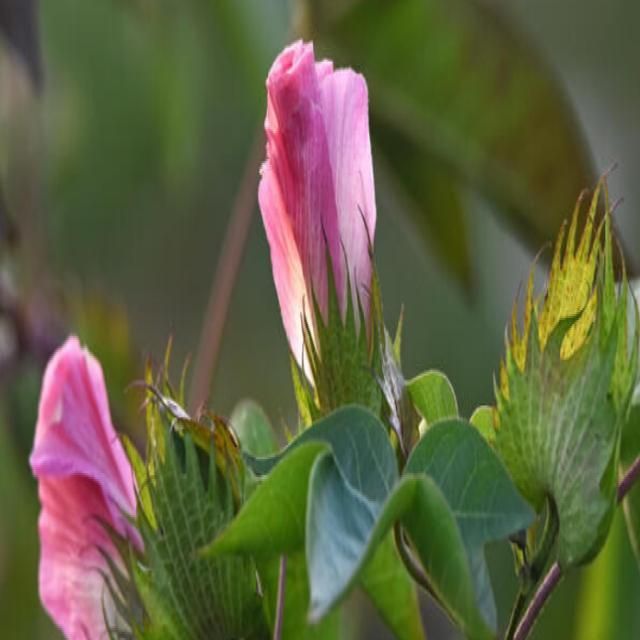Cotton Blossom: (249, 33, 392, 447), (26, 330, 155, 634)
Early Boll: (492, 165, 632, 577), (125, 337, 277, 637)
